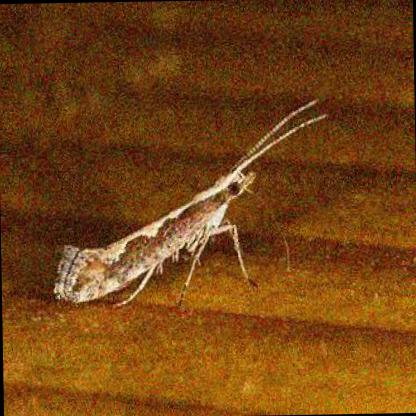plutella: (53, 95, 324, 308)
